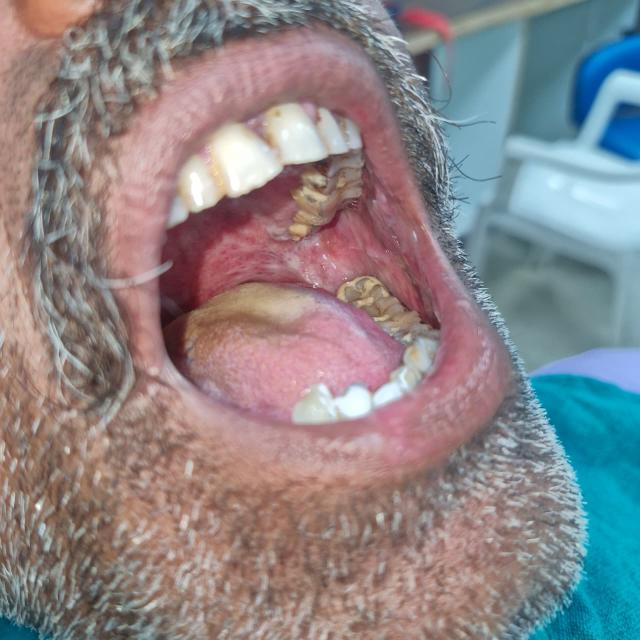leukoplakia-detection: (187, 172, 421, 345)
processing_area: (169, 179, 440, 415)
